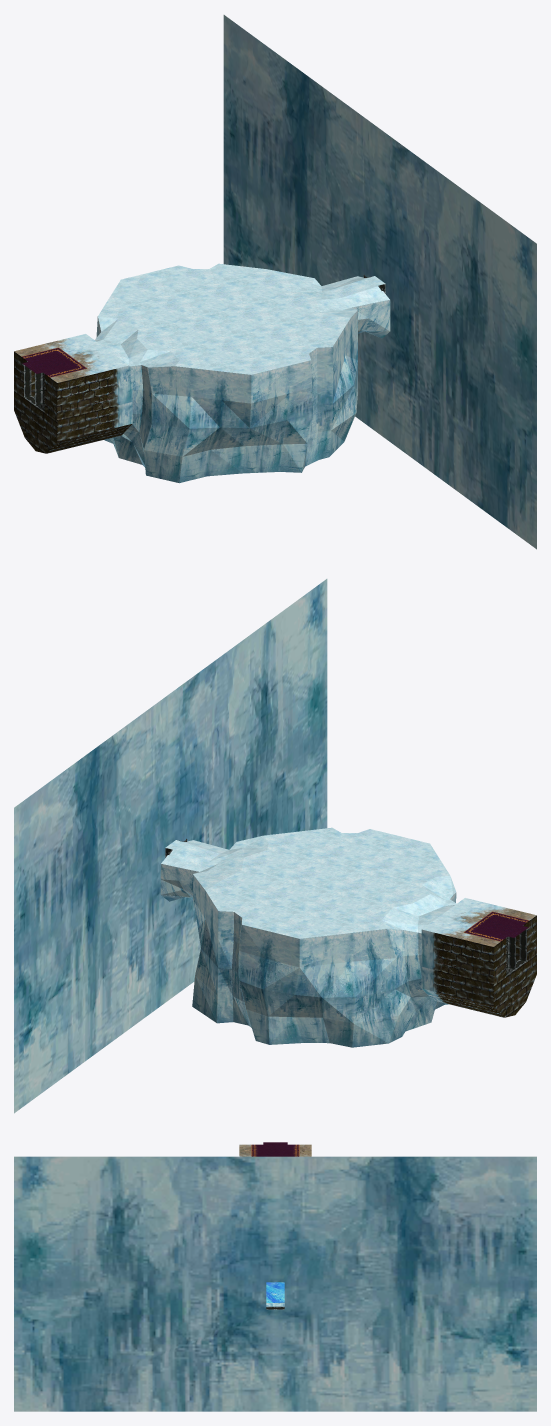
The picture shows the model from 3 angles, top to bottom: view 1: azimuth 30°, elevation 25°; view 2: azimuth 150°, elevation 25°; view 3: azimuth 270°, elevation 25°; orthographic projection. The views are drawn at different scales.
Visible parts, largest first — view 1: node-01C4F90E, node-02BCE6A1, node-004DE0BC, node-03F451C9, node-0396E014, node-02EE16B8, node-0155306A, node-025ECC7D; view 2: node-01C4F90E, node-02BCE6A1, node-004DE0BC, node-03F451C9, node-0396E014, node-02EE16B8, node-0155306A, node-025ECC7D; view 3: node-01C4F90E, node-0155306A, node-00A41BAC, node-0396E014.
Boxes of the visible parts, left/top/right/bottom form: node-01C4F90E: left=223, top=15, right=536, bottom=549; node-02BCE6A1: left=96, top=300, right=390, bottom=483; node-004DE0BC: left=95, top=263, right=389, bottom=374; node-03F451C9: left=14, top=351, right=131, bottom=453; node-0396E014: left=14, top=334, right=128, bottom=382; node-02EE16B8: left=112, top=365, right=132, bottom=428; node-0155306A: left=21, top=347, right=87, bottom=377; node-025ECC7D: left=24, top=275, right=385, bottom=412; node-01C4F90E: left=14, top=579, right=327, bottom=1113; node-02BCE6A1: left=160, top=864, right=456, bottom=1047; node-004DE0BC: left=161, top=827, right=456, bottom=938; node-03F451C9: left=439, top=915, right=536, bottom=1017; node-0396E014: left=422, top=898, right=536, bottom=946; node-02EE16B8: left=421, top=929, right=448, bottom=1004; node-0155306A: left=463, top=911, right=529, bottom=941; node-025ECC7D: left=165, top=839, right=526, bottom=976; node-01C4F90E: left=14, top=1156, right=536, bottom=1411; node-0155306A: left=251, top=1142, right=299, bottom=1156; node-00A41BAC: left=266, top=1282, right=284, bottom=1302; node-0396E014: left=239, top=1144, right=311, bottom=1156.
Size of the model in its own units: 441 by 367 by 682.
9 materials, 9 textured.
